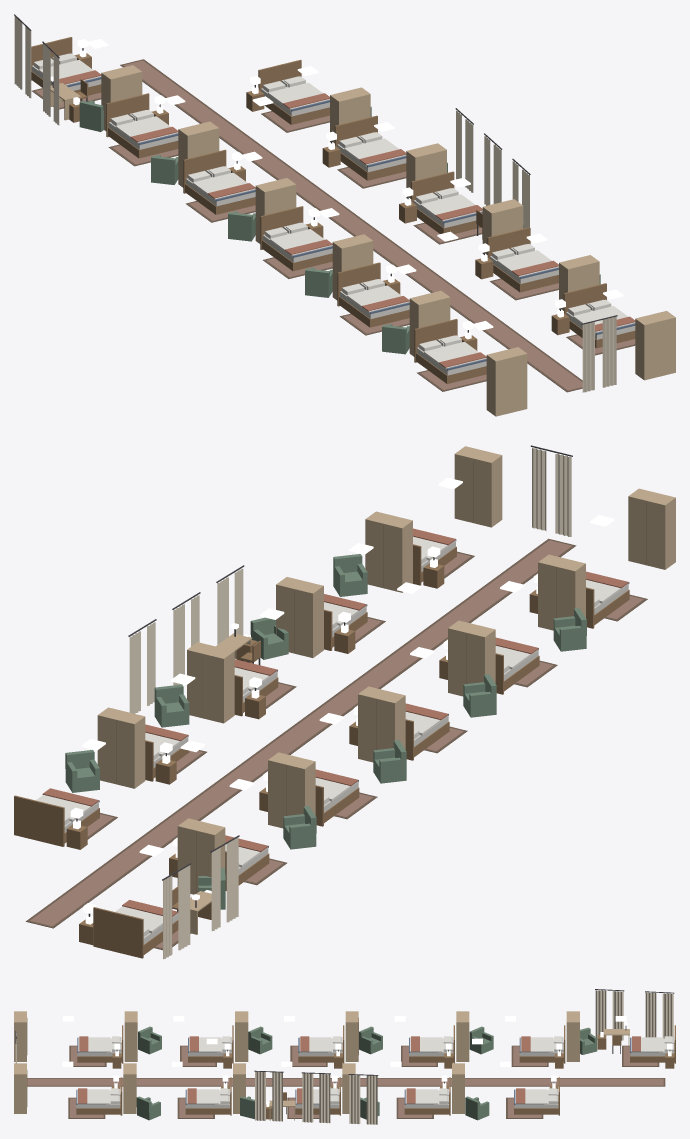
File: fine-s1.glb
3 views of the same model, one above another, from view 1: azimuth 30°, elevation 25°; view 2: azimuth 150°, elevation 25°; view 3: azimuth 270°, elevation 25° (orthographic). The views are drawn at different scales.
Parts seen in each view (by area): view 1: soft-s1, dresser.010, dresser.004, bed-frame.010, bed-frame.007, bed-frame.006, bed-frame.008, bed-frame.009, bed-frame.001, bed-frame.003, bed-frame.000, bed-frame.002 (+16 smaller); view 2: soft-s1, dresser.004, dresser.010, dresser.000, dresser.001, dresser.003, dresser.002, dresser.006, dresser.007, dresser.008, dresser.009, bed-frame.005 (+14 smaller); view 3: soft-s1, dresser.003, dresser.005, dresser.006, dresser.007, dresser.008, dresser.009, dresser.004, bed-frame.004, dresser.010, dresser.000, bed-frame.001 (+20 smaller).
Part boxes in pixels (x1,y1,x2,y2): soft-s1: (14,14,635,392); dresser.010: (486,347,527,416); dresser.004: (635,311,675,380); bed-frame.010: (414,319,486,383); bed-frame.007: (183,149,255,214); bed-frame.006: (106,93,178,158); bed-frame.008: (260,206,332,271); bed-frame.009: (337,262,409,327); bed-frame.001: (334,115,406,180); bed-frame.003: (487,227,558,292); bed-frame.000: (258,59,329,124); bed-frame.002: (411,171,482,233); soft-s1: (26,445,647,959); dresser.004: (454,446,502,527); dresser.010: (628,488,675,569); dresser.000: (97,707,145,788); dresser.001: (187,642,234,723); dresser.003: (365,511,412,592); dresser.002: (276,577,323,657); dresser.006: (268,752,315,828); dresser.007: (358,686,405,762); dresser.008: (448,620,495,696); dresser.009: (538,554,585,630); bed-frame.005: (93,907,178,958); soft-s1: (15,989,674,1124); dresser.003: (123,1063,136,1113); dresser.005: (566,1011,579,1061); dresser.006: (456,1011,469,1061); dresser.007: (345,1011,358,1061); dresser.008: (235,1011,248,1061); dresser.009: (124,1011,137,1061); dresser.004: (14,1063,27,1113); bed-frame.004: (76,1077,122,1115); dresser.010: (14,1011,27,1061); dresser.000: (452,1063,464,1113); bed-frame.001: (404,1077,450,1115).
Size of the model in its own units: 9.33 by 2.56 by 30.27.
